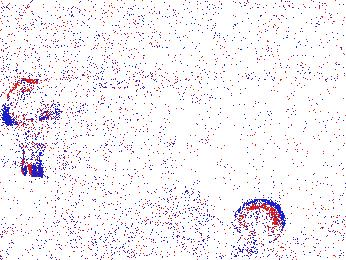flame jellyfish: (1, 81, 61, 178), (36, 200, 89, 254), (232, 198, 286, 246)
